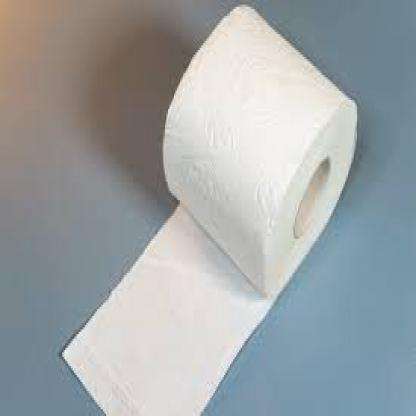tissue: (41, 0, 369, 416)
